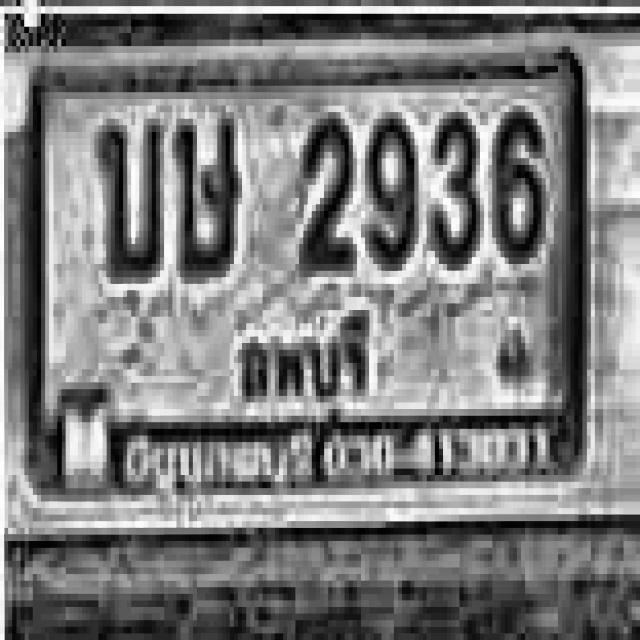license-plate: (25, 34, 588, 490)
